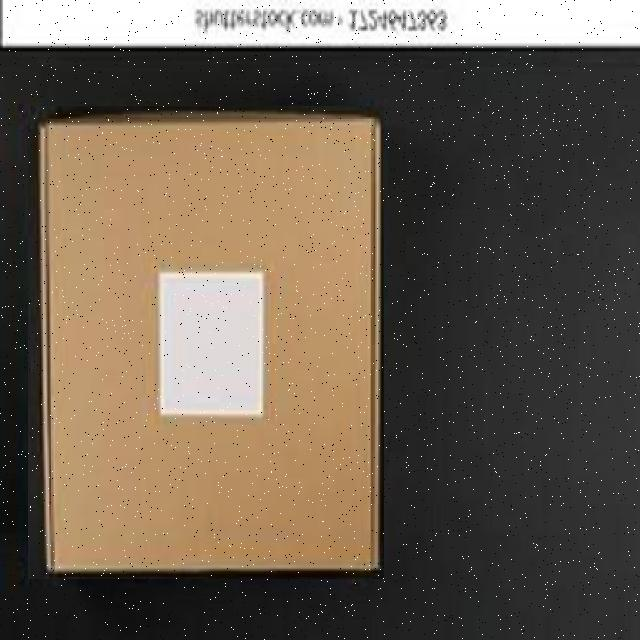normal: (28, 106, 384, 579)
